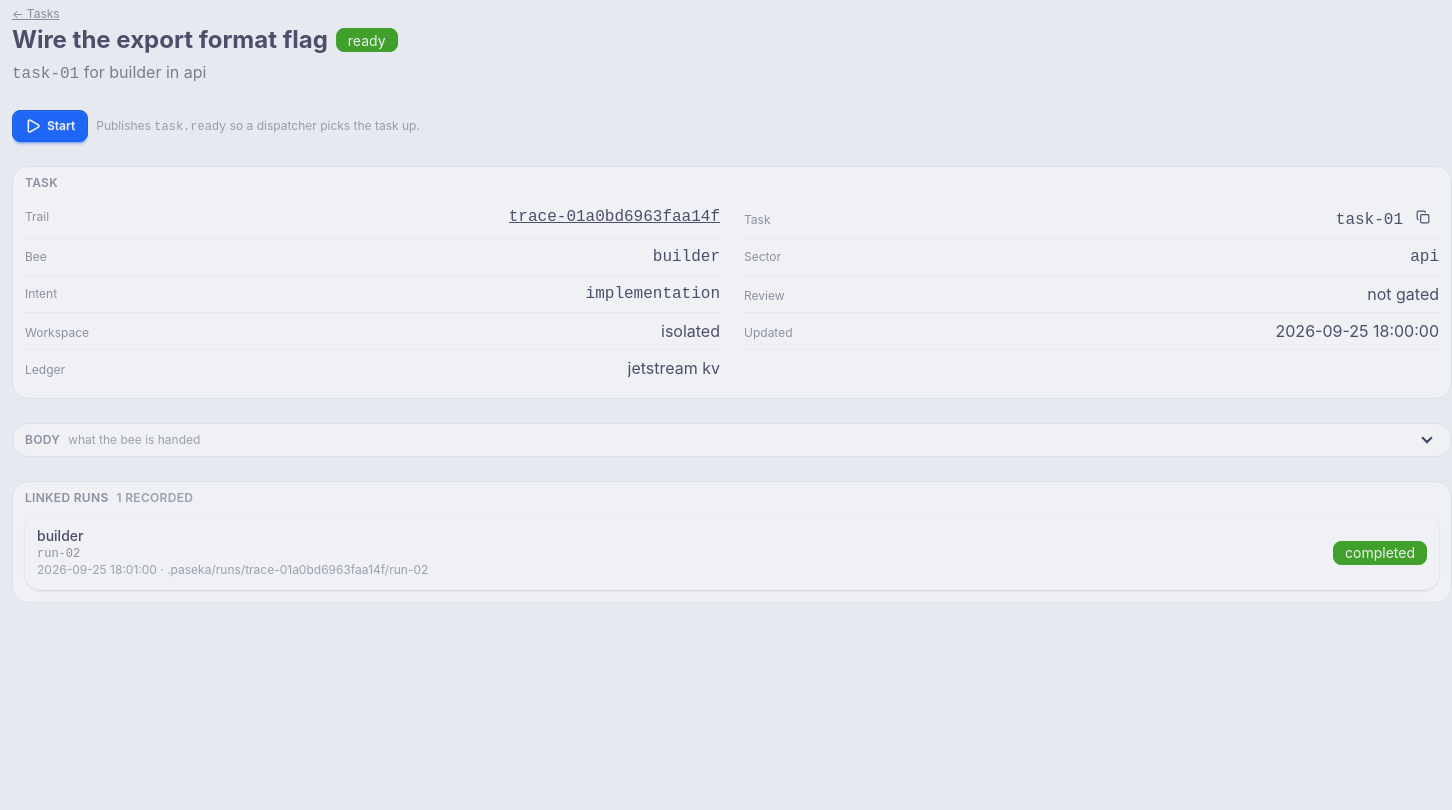
task detail › shows the server's refusal of a start as itself
Step 1. Click the button "Start" → (50, 126), box [12,110,88,142]
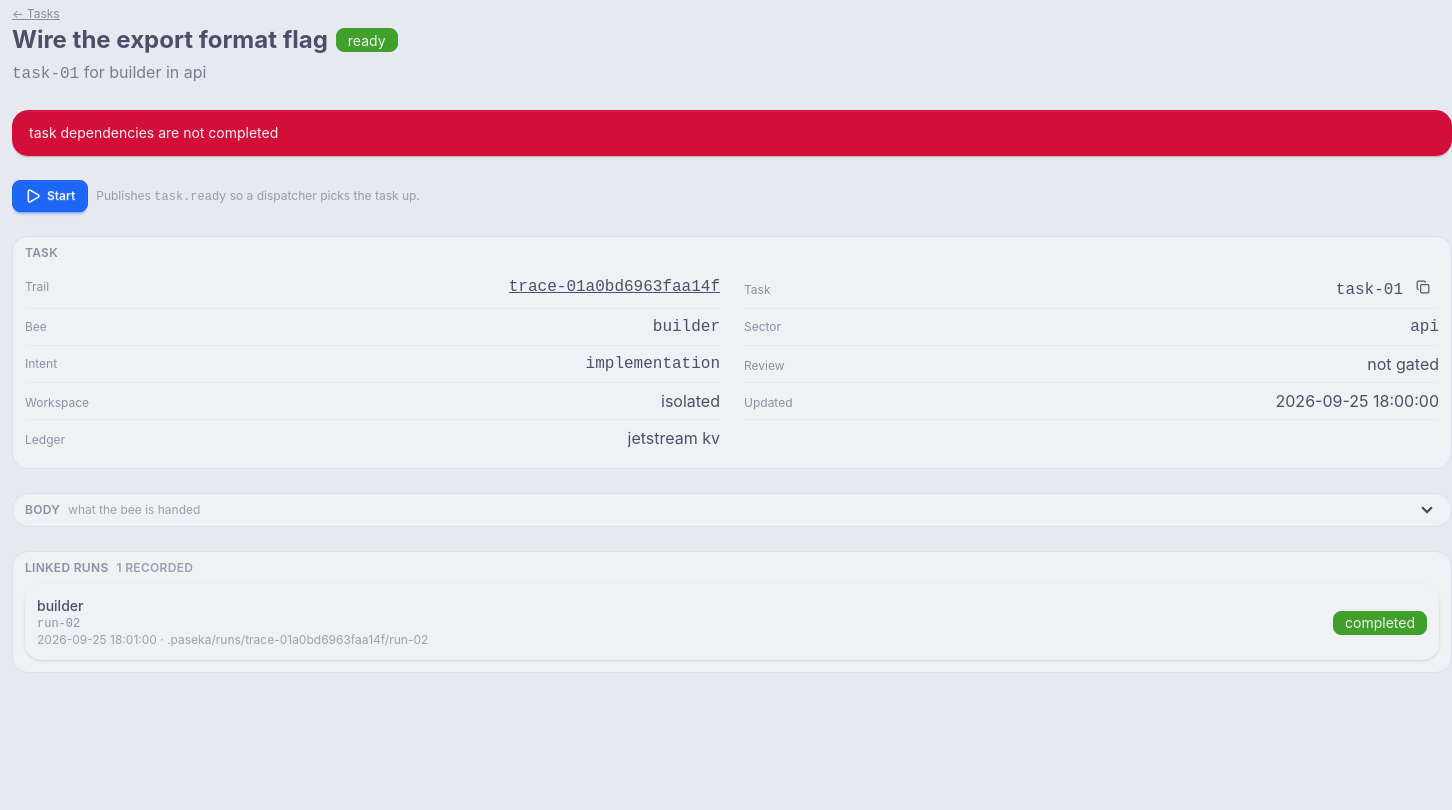
Expected: the message reads "task dependencies are not completed", [29,124,278,141]
